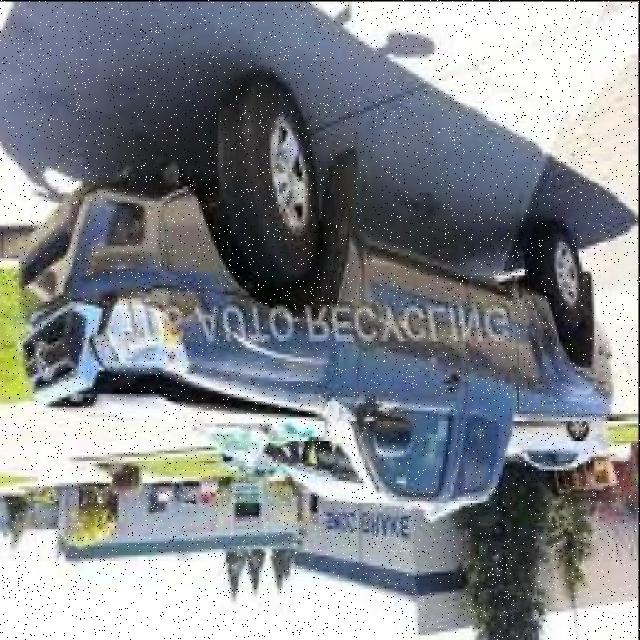damage: (24, 252, 383, 496)
